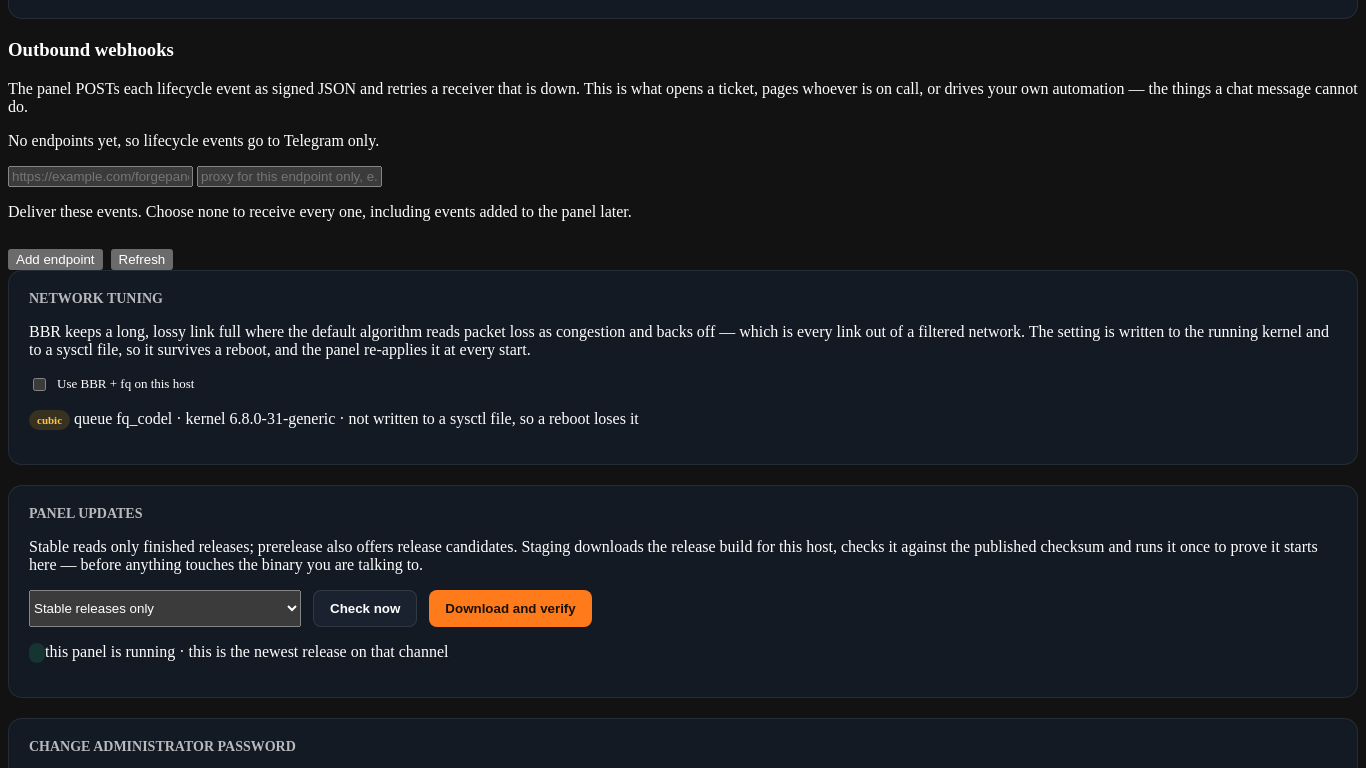
Scenario: SystemHealthView network tuning card › surfaces the failure and its remediation instead of a green toggle
(page scrolled)
Click the checkbox with test id "nettune-toggle": [40, 384] box [33,378,46,391]
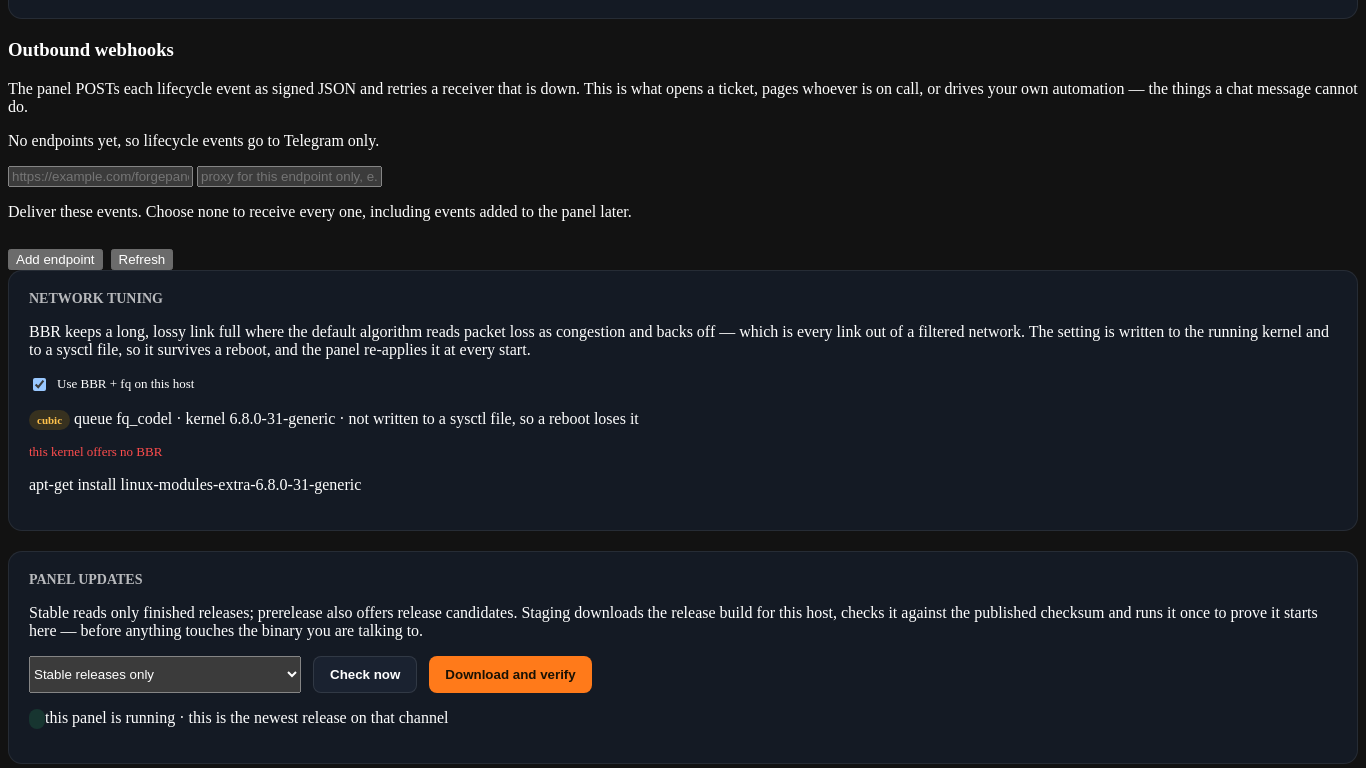
Now the checkbox with test id "nettune-toggle" is checked, box [33,378,46,391]
Now the text with test id "nettune-error" shows "no BBR", box [29,444,162,459]
Now the text with test id "nettune-remedy" shows "linux-modules-extra", box [29,476,361,493]
